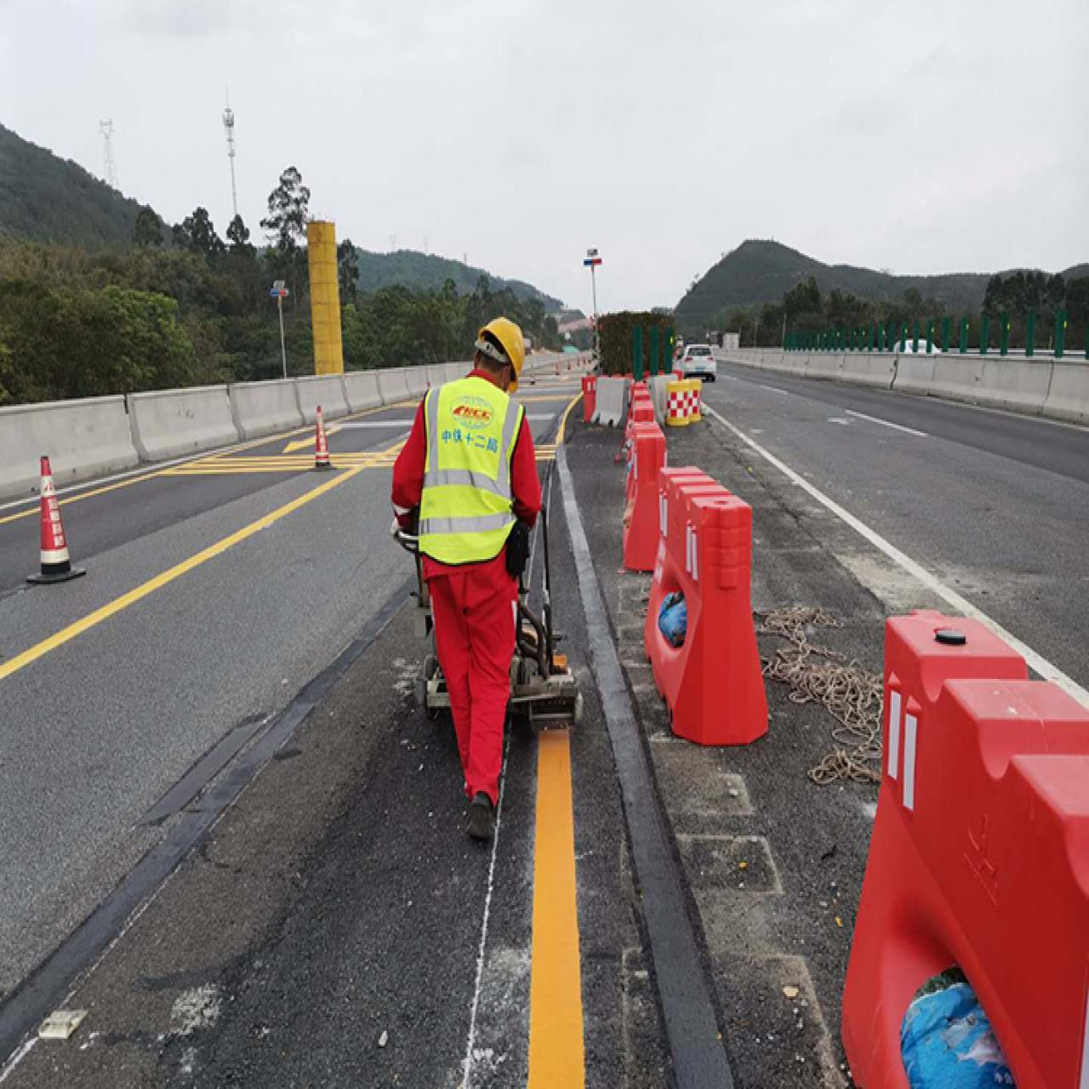Person: (383, 294, 587, 849)
Safety_Vest: (413, 373, 524, 565)
